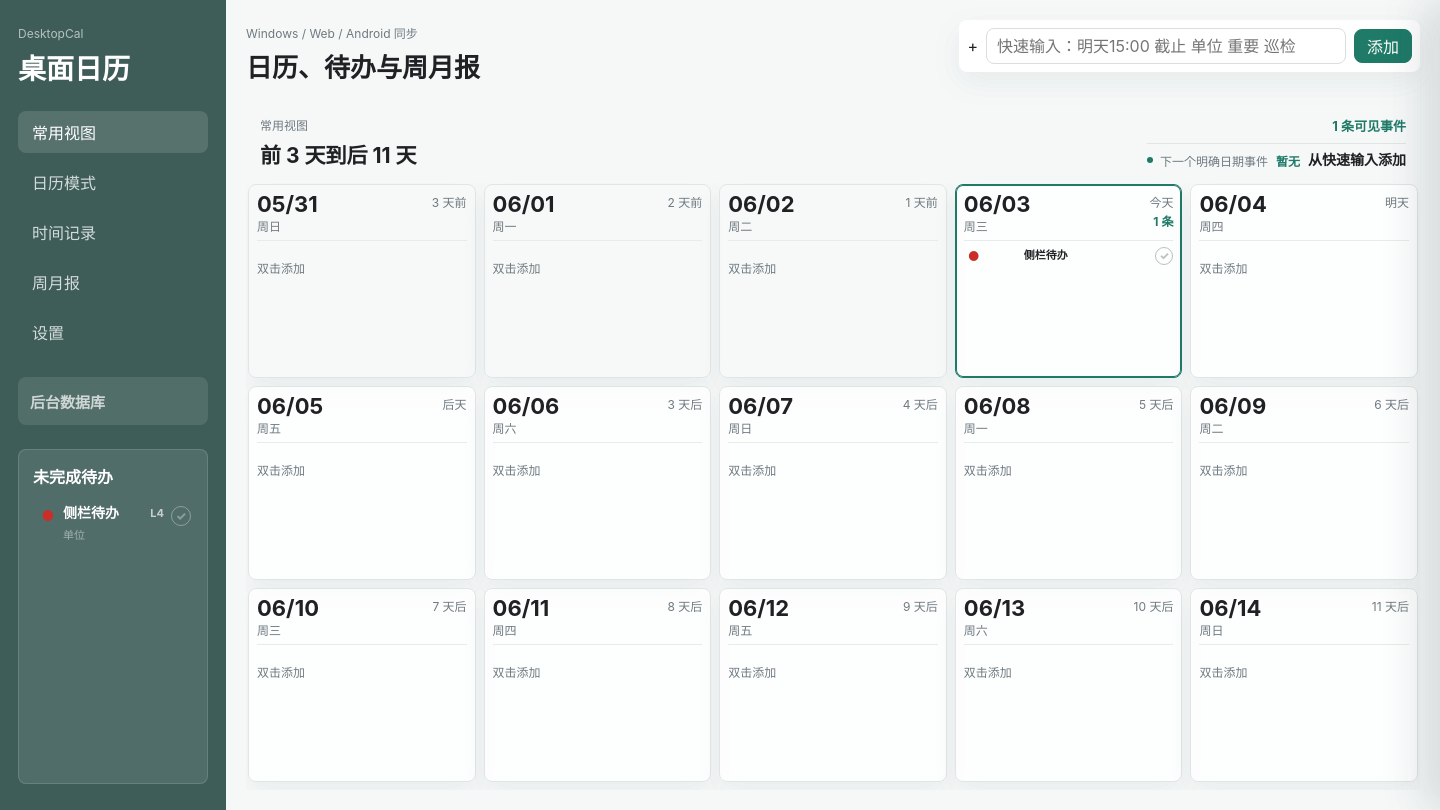
Test: App event interactions › marks a sidebar todo as done from the quick action
The width and height of the screenshot is (1440, 810).
Expected: the button with aria-label "编辑代办：侧栏待办" is shown, [33,498,168,556]
Click the button named "设为已办：侧栏待办" at x=181, y=516, box [171,506,191,526]
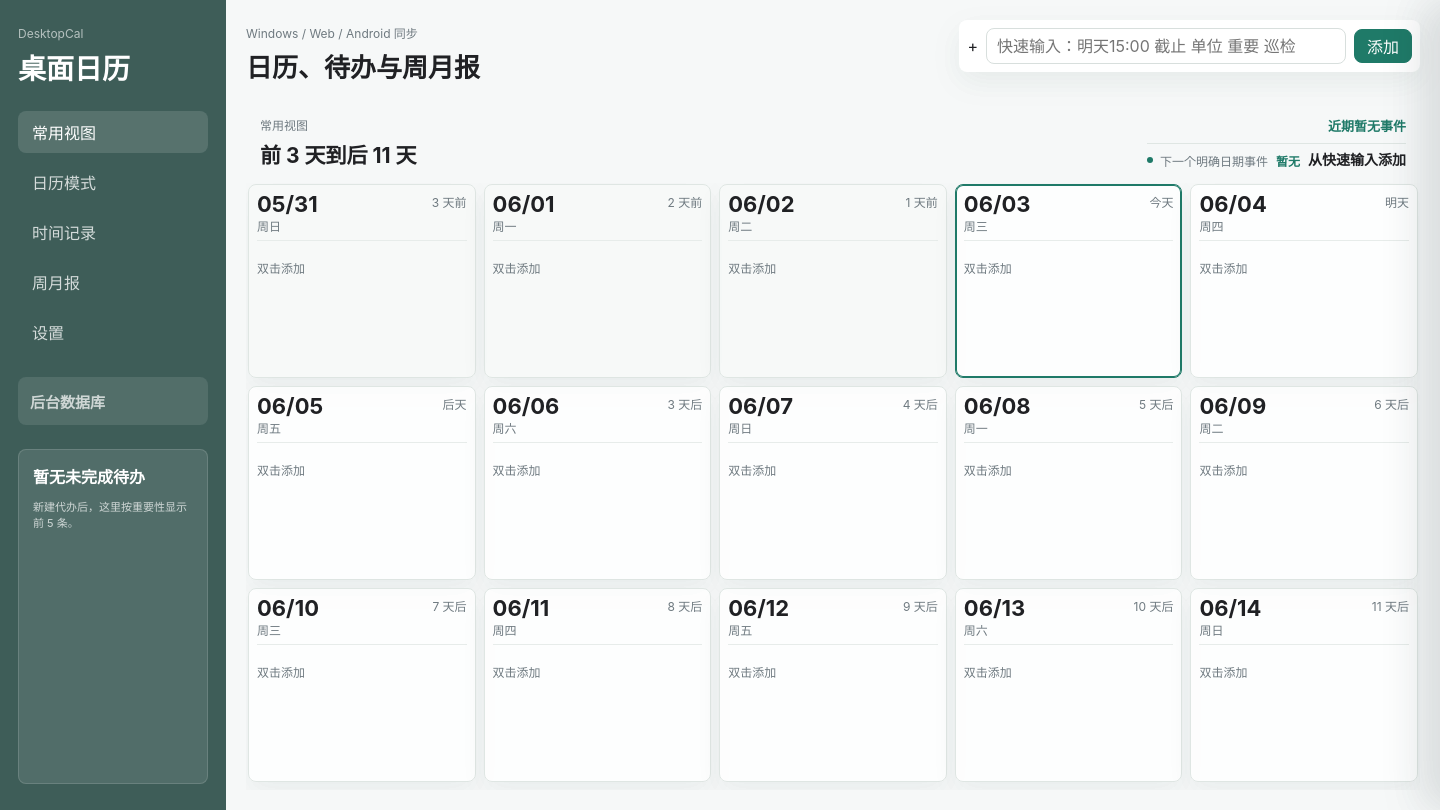
Now the button "编辑代办：侧栏待办" is gone
